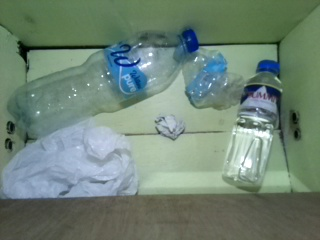bottle: (11, 28, 199, 144), (220, 56, 284, 191)
damaged-bottle: (180, 47, 246, 110)
paper: (154, 114, 186, 140)
plastic-bag: (2, 116, 141, 201)
